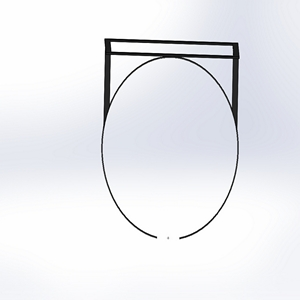circle: (95, 34, 243, 241)
